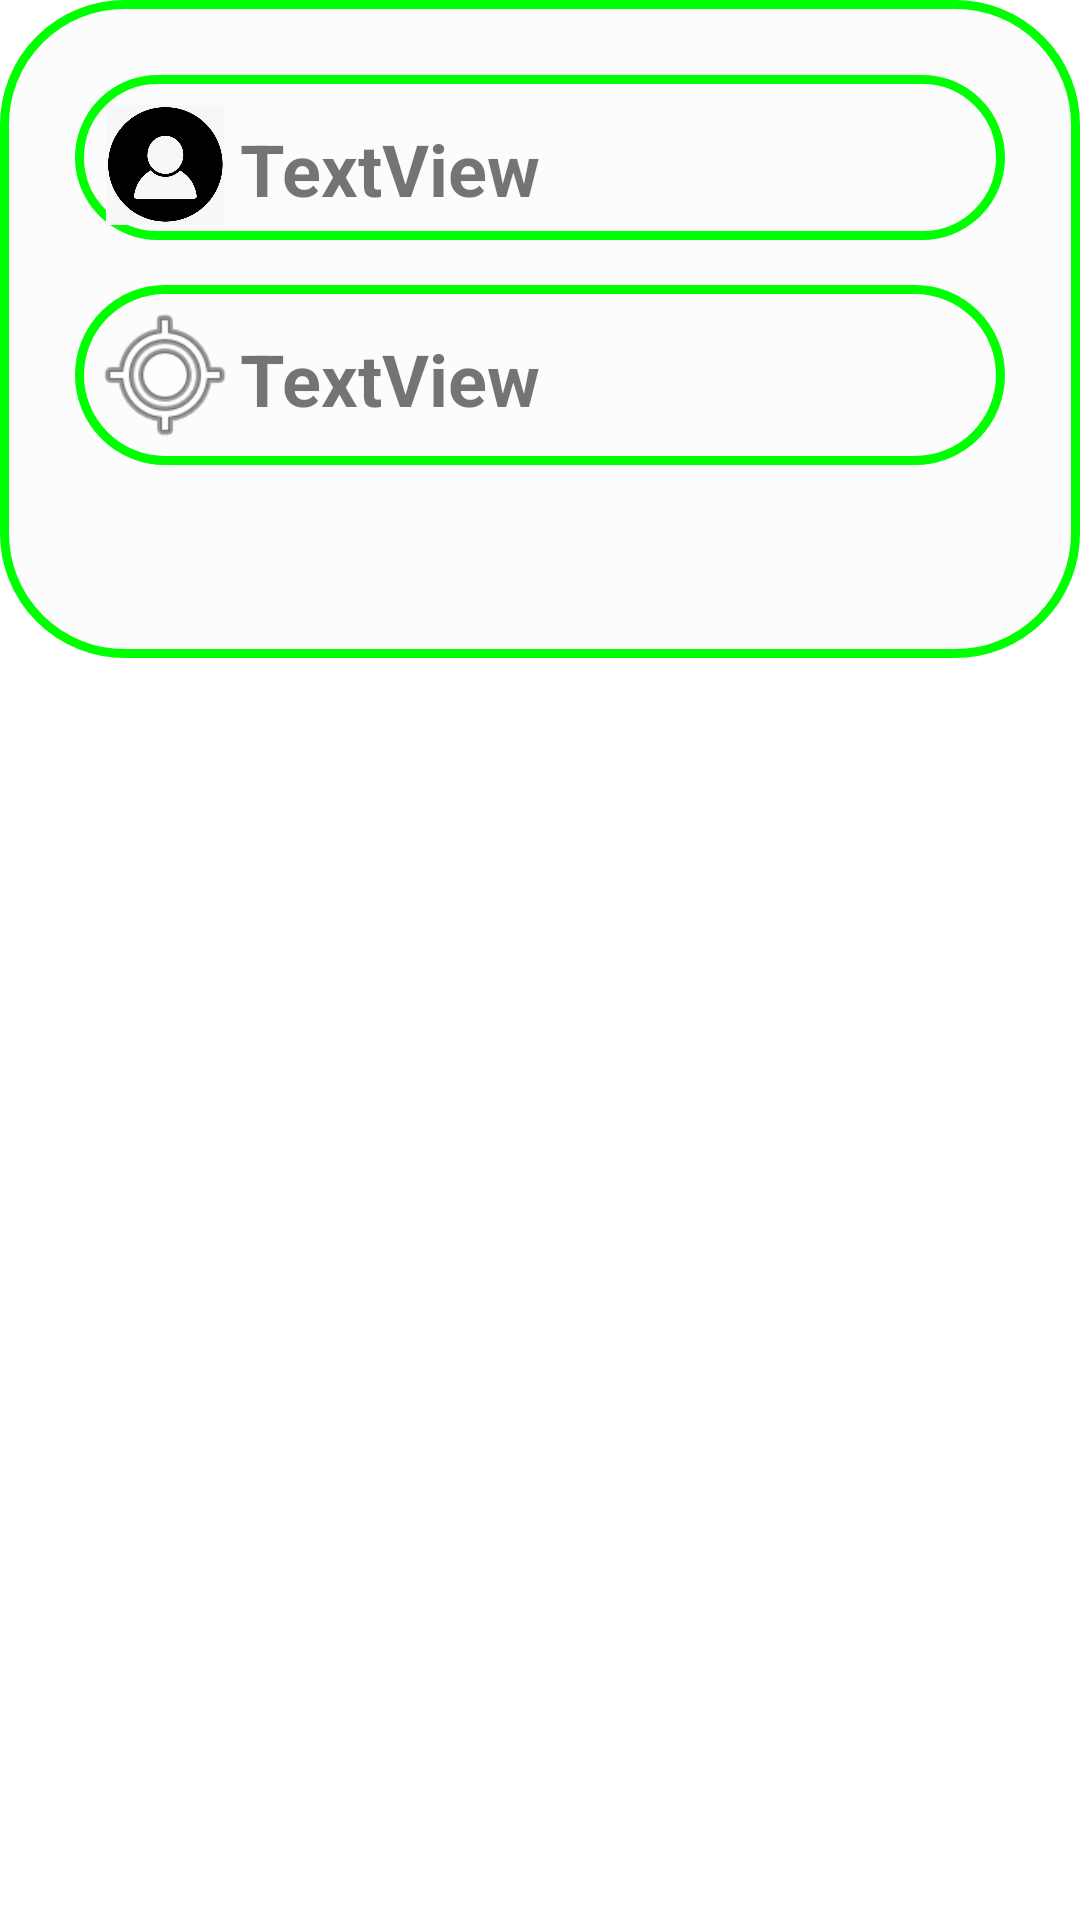

Point at icon controls on the screen. Image size 1080*1920, points as (x=x, y=y).
mylocation: (x=165, y=375)
